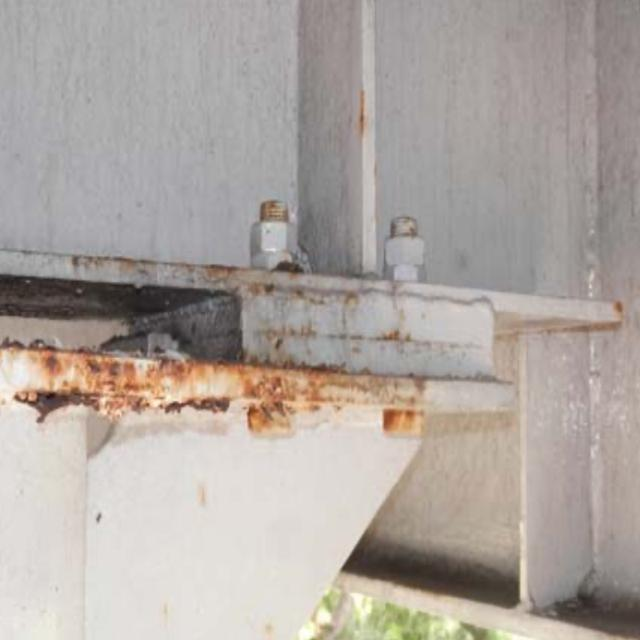corrosion: (24, 236, 433, 447)
